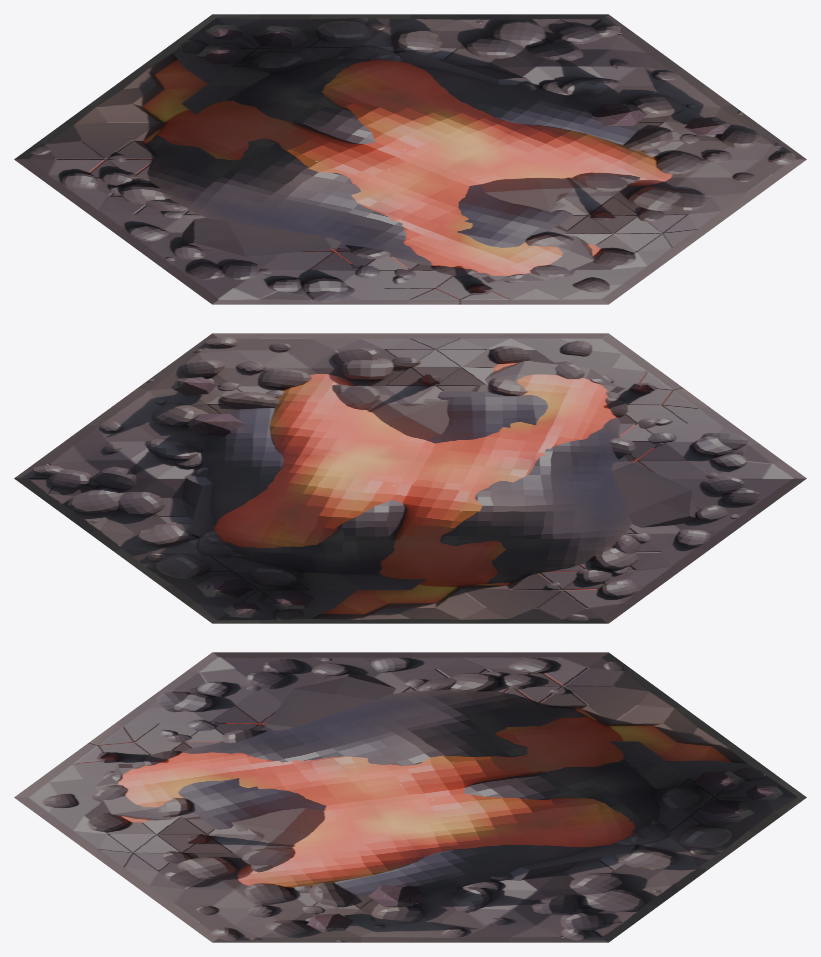
Rendered from scorchedVolcano.glb.
The picture shows the model from 3 angles, top to bottom: view 1: azimuth 30°, elevation 25°; view 2: azimuth 150°, elevation 25°; view 3: azimuth 270°, elevation 25°; orthographic projection.
Visible parts, largest first — view 1: Deciduousforest_flat; view 2: Deciduousforest_flat; view 3: Deciduousforest_flat.
Boxes of the visible parts, x1,y1,x2,y2 form: Deciduousforest_flat: (14,14,806,304); Deciduousforest_flat: (14,333,806,623); Deciduousforest_flat: (14,652,806,942).
Bounding box in the file's own units: 1.73 × 4.47e-08 × 2.
Materials: 1 (1 with a texture image).
